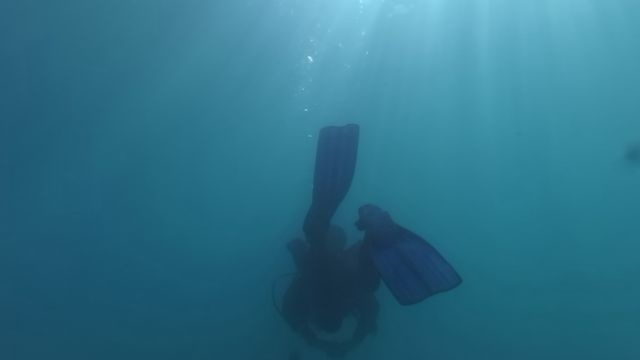Diver: (262, 123, 463, 359)
Hand: (330, 338, 362, 359), (318, 337, 345, 356)
